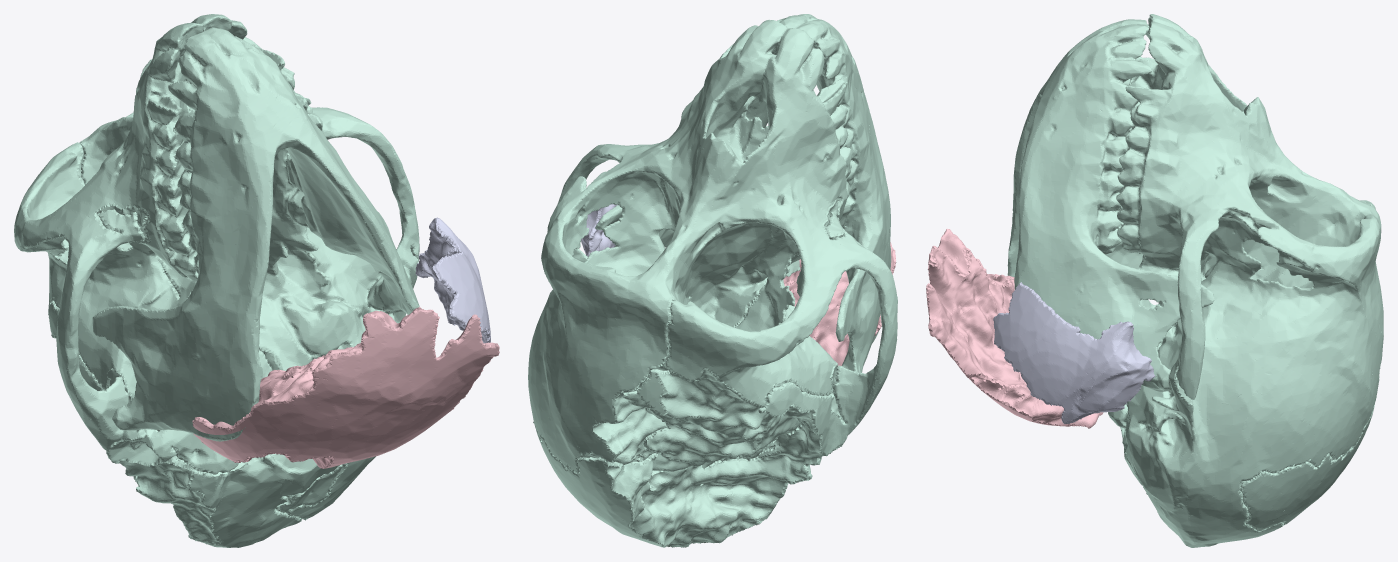
The model's file is 102021_colored.glb.
3 renders of one model, left to right at view 1: azimuth 30°, elevation 25°; view 2: azimuth 150°, elevation 25°; view 3: azimuth 270°, elevation 25°, orthographic. The views are drawn at different scales.
Parts seen in each view (by area): view 1: world; view 2: world; view 3: world.
Part boxes in pixels (x1,y1,x2,y2): world: (14,14,499,547); world: (528,14,897,547); world: (926,14,1383,547).
Size of the model in its own units: 0.7086 by 0.9995 by 0.8579.
